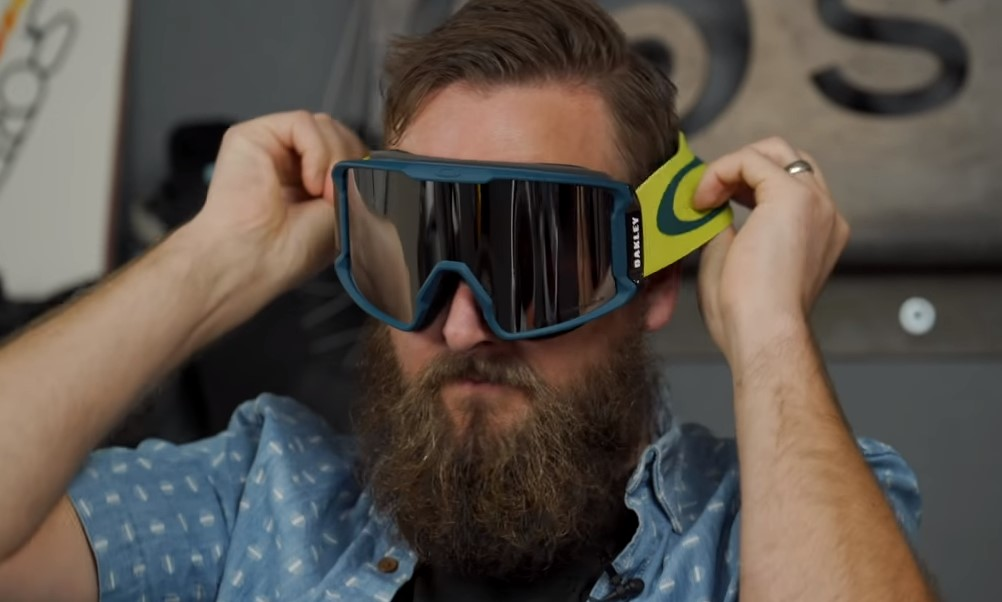face_no_mask: (348, 73, 683, 502)
